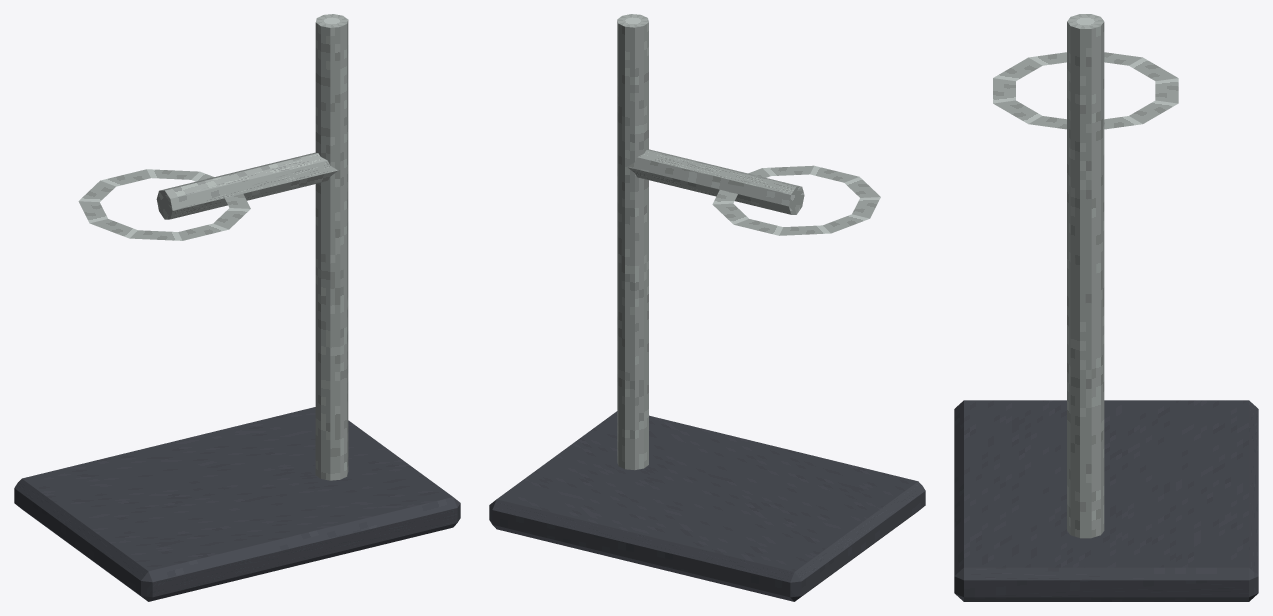
Rendered from stand_ring.glb.
3 views of the same model, side by side, from view 1: azimuth 30°, elevation 25°; view 2: azimuth 150°, elevation 25°; view 3: azimuth 270°, elevation 25° (orthographic). The views are drawn at different scales.
Parts seen in each view (by area): view 1: block_weighted foot, block_vertical support, block_clamp arm; view 2: block_weighted foot, block_vertical support, block_clamp arm; view 3: block_weighted foot, block_vertical support, block_retort ring 7, block_retort ring 3, block_retort ring 6, block_retort ring 8, block_retort ring 1, block_retort ring 2.
Boxes of the visible parts, bbox=[...] form: block_weighted foot: bbox=[14, 407, 460, 601]; block_vertical support: bbox=[315, 14, 348, 480]; block_clamp arm: bbox=[156, 152, 337, 219]; block_weighted foot: bbox=[489, 411, 925, 601]; block_vertical support: bbox=[617, 14, 648, 470]; block_clamp arm: bbox=[627, 149, 804, 214]; block_weighted foot: bbox=[954, 400, 1258, 601]; block_vertical support: bbox=[1067, 14, 1104, 538]; block_retort ring 7: bbox=[1155, 78, 1178, 103]; block_retort ring 3: bbox=[993, 57, 1042, 81]; block_retort ring 6: bbox=[1129, 57, 1177, 81]; block_retort ring 8: bbox=[1129, 100, 1177, 123]; block_retort ring 1: bbox=[993, 100, 1041, 123]; block_retort ring 2: bbox=[993, 78, 1015, 103].
Bounding box in the file's own units: 0.2837 × 0.41 × 0.2081.
Materials: 1 (1 with a texture image).
